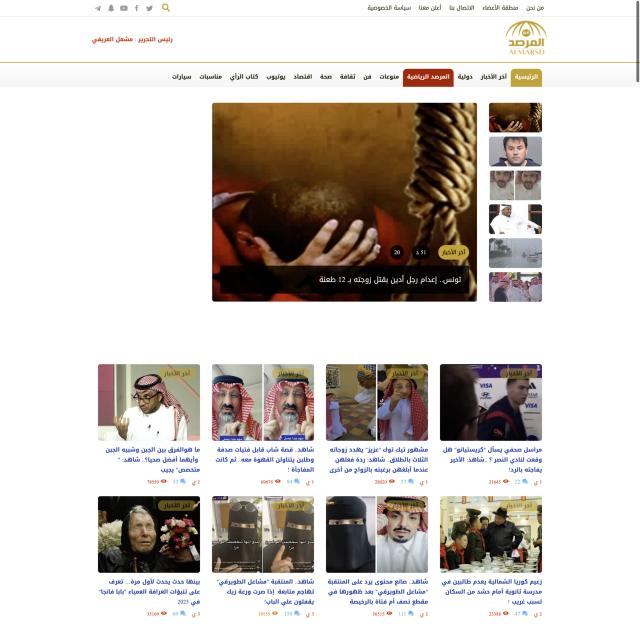logo: (503, 18, 549, 58)
navigation: (365, 2, 550, 15), (92, 1, 175, 15)
